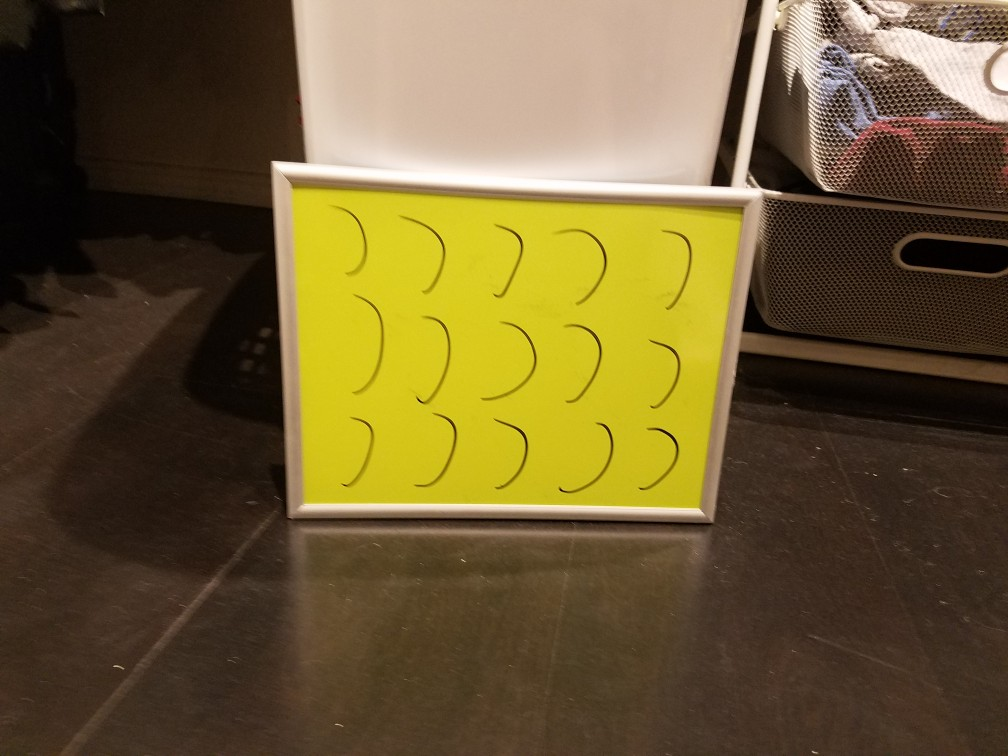): (559, 412, 622, 499), (473, 318, 539, 401), (398, 201, 451, 300), (340, 289, 387, 400), (556, 217, 611, 311), (554, 318, 610, 407), (481, 410, 533, 499), (411, 311, 459, 407), (413, 407, 464, 497), (485, 212, 533, 306), (650, 218, 695, 315), (335, 407, 382, 493), (640, 422, 691, 499), (333, 194, 373, 285), (644, 333, 682, 412)
